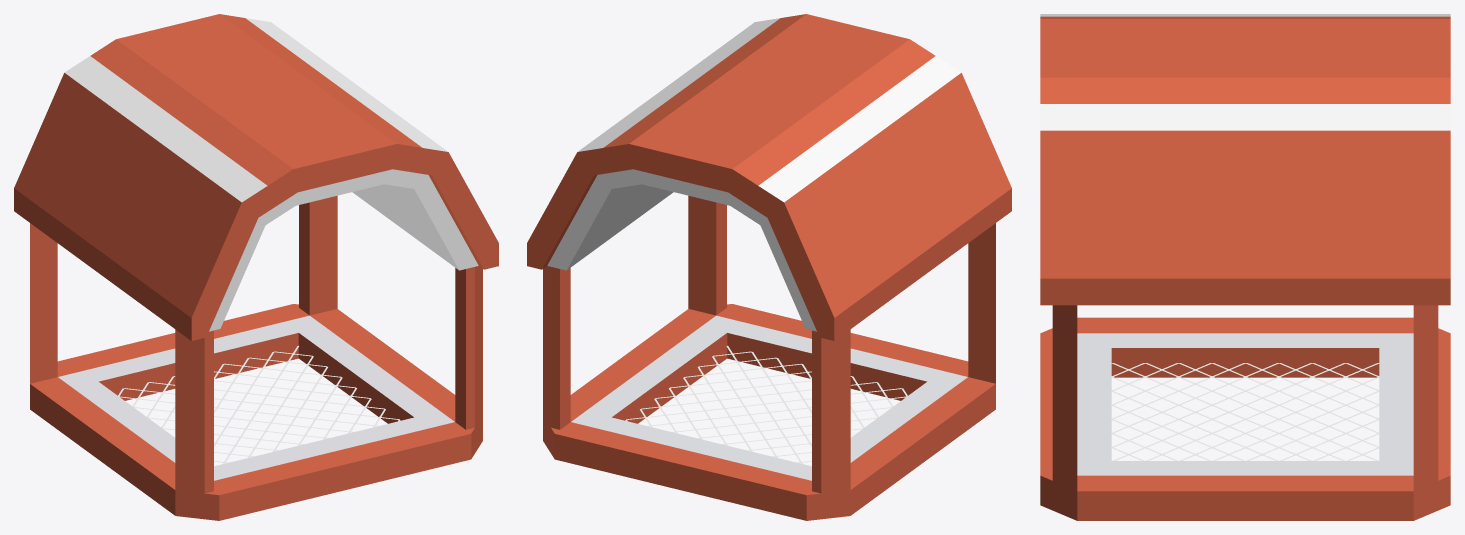
File: buildingOpen.fbx
3 views of the same model, side by side, from view 1: azimuth 30°, elevation 25°; view 2: azimuth 150°, elevation 25°; view 3: azimuth 270°, elevation 25° (orthographic). The views are drawn at different scales.
Parts seen in each view (by area): view 1: buildingOpen; view 2: buildingOpen; view 3: buildingOpen.
Boxes of the visible parts, x1=… form: buildingOpen: x1=14, y1=14, x2=498, y2=520; buildingOpen: x1=527, y1=14, x2=1011, y2=520; buildingOpen: x1=1040, y1=14, x2=1450, y2=520.
Size of the model in its own units: 10 by 10.37 by 10.
4 materials, 1 textured.
